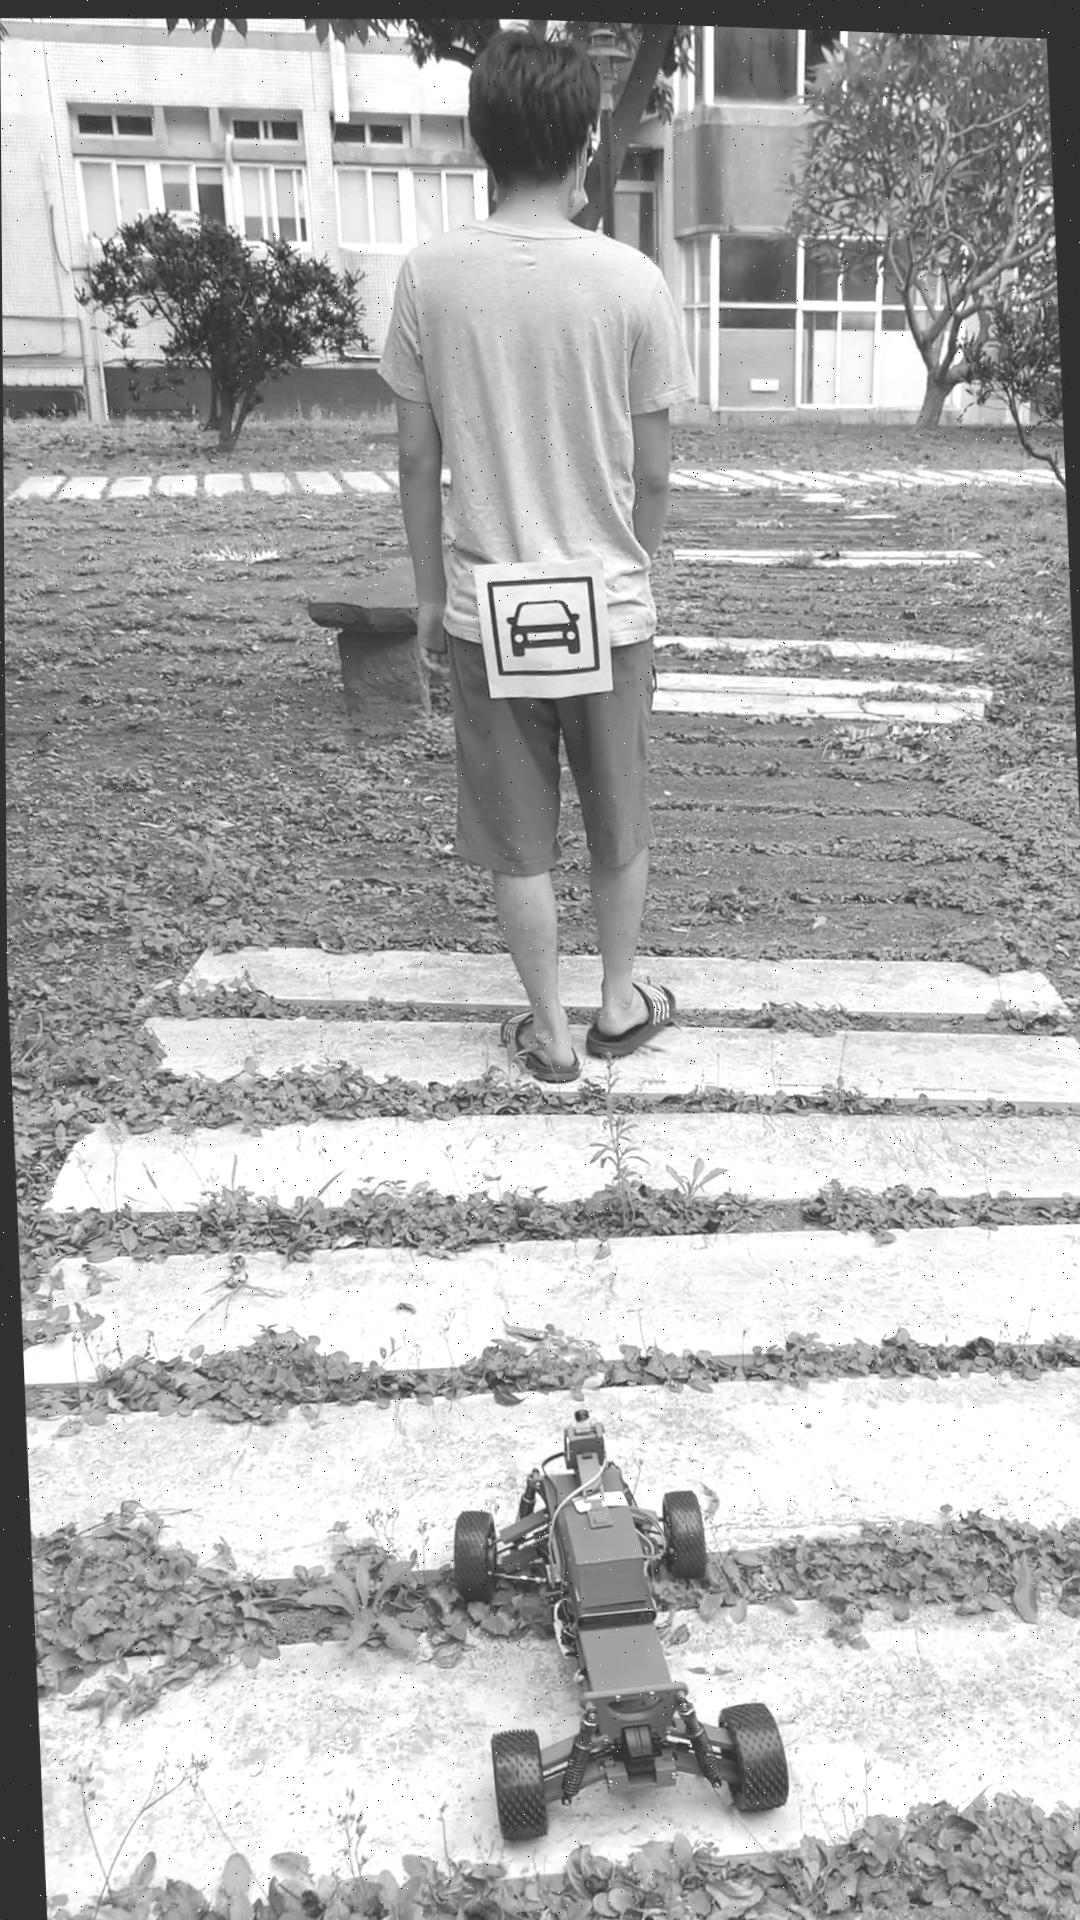car_img: (485, 568, 600, 675)
